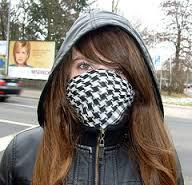NONE: (16, 50, 28, 64)
OK: (63, 50, 144, 131)
